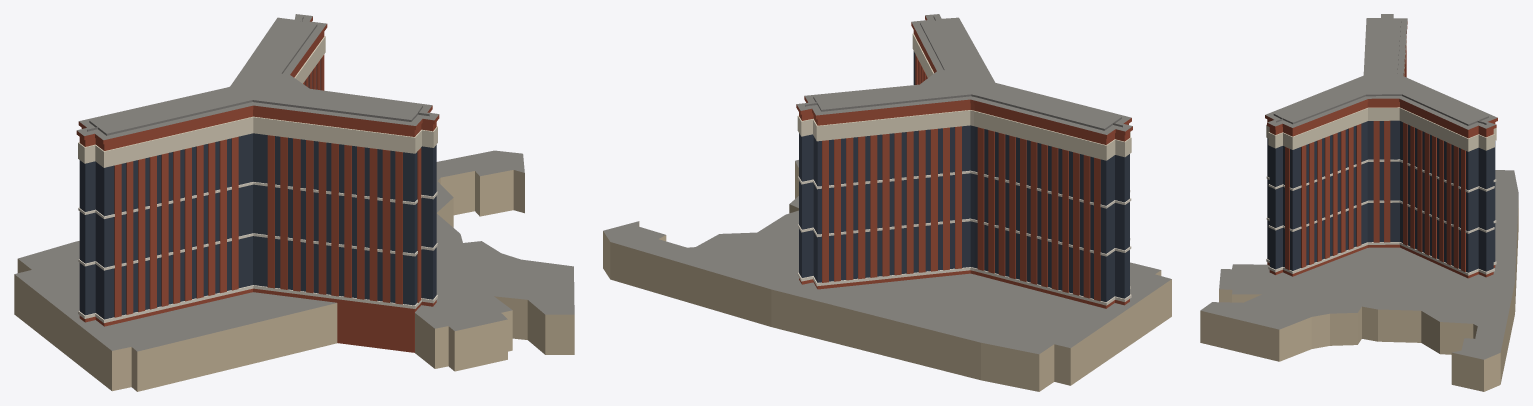
Rendered from treasure_island_hotel__w33959894.glb.
The picture shows the model from 3 angles, left to right: view 1: azimuth 30°, elevation 25°; view 2: azimuth 150°, elevation 25°; view 3: azimuth 270°, elevation 25°; orthographic projection. The views are drawn at different scales.
Parts seen in each view (by area): view 1: Resort_w33959894; view 2: Resort_w33959894; view 3: Resort_w33959894.
Part boxes in pixels (x1,y1,x2,y2): Resort_w33959894: (14, 14, 574, 391); Resort_w33959894: (603, 14, 1171, 391); Resort_w33959894: (1200, 14, 1518, 391).
Bounding box in the file's own units: 265 × 114 × 179.
